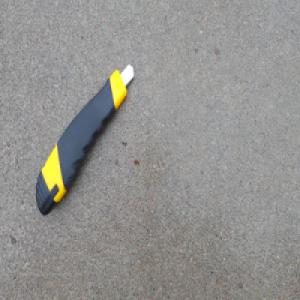Cutter: (34, 64, 134, 220)
